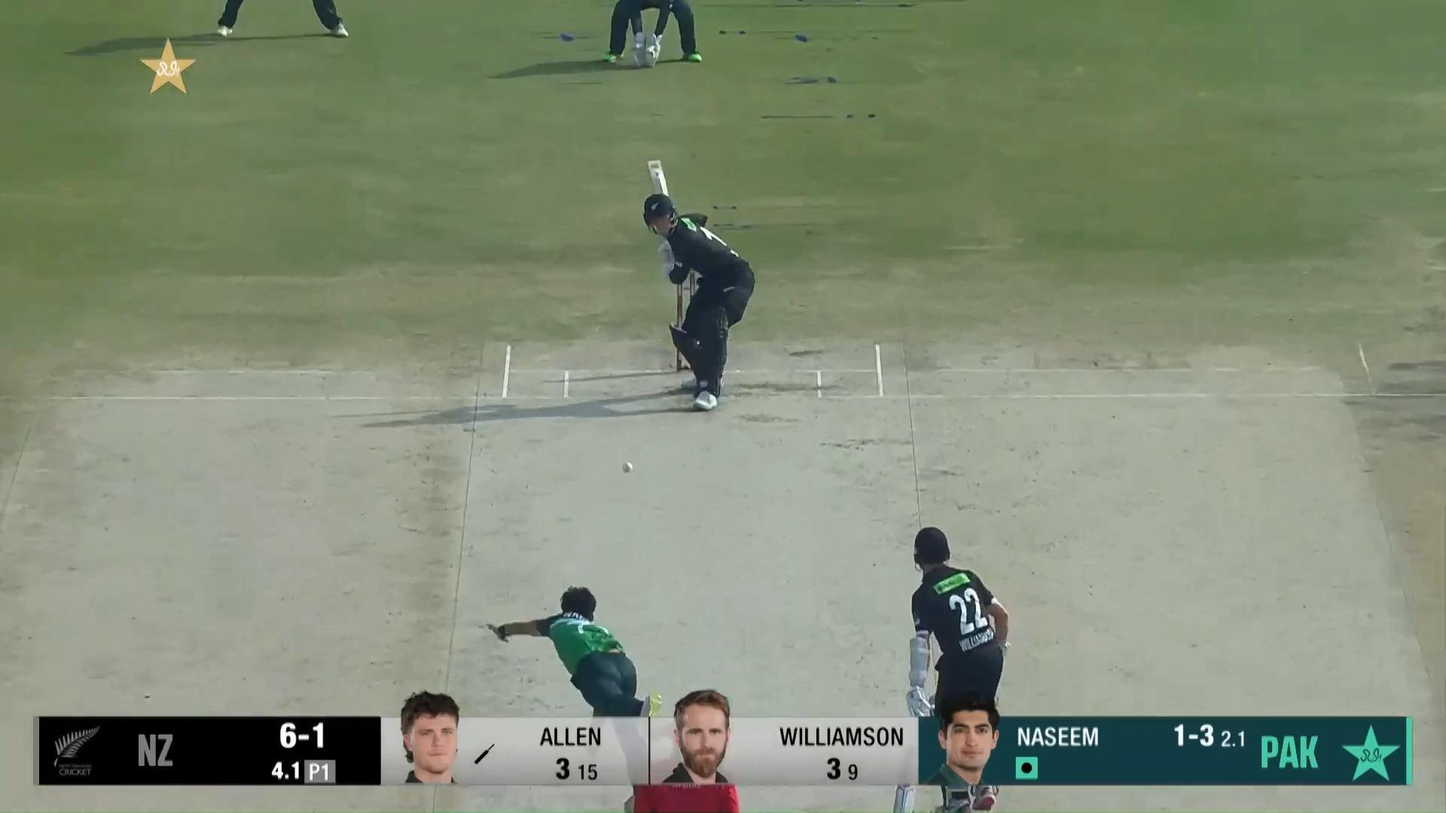BM 1: (643, 159, 755, 411)
BO: (484, 581, 675, 813)
